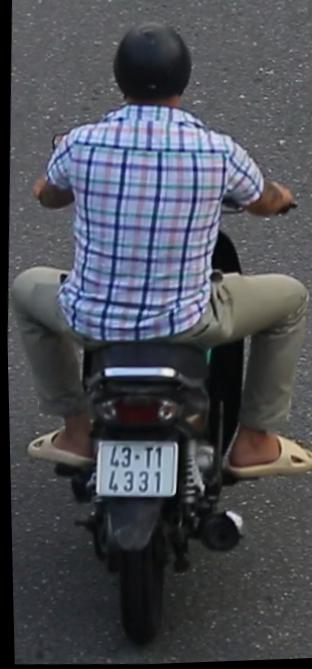LP: (89, 431, 181, 505)
helmet: (105, 15, 197, 122)
